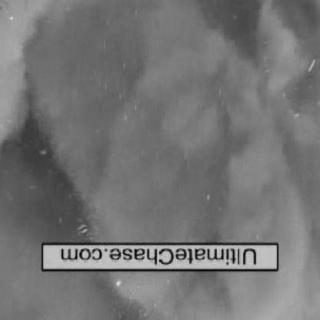Fire: (251, 6, 317, 118)
Smoke: (4, 13, 268, 240)
